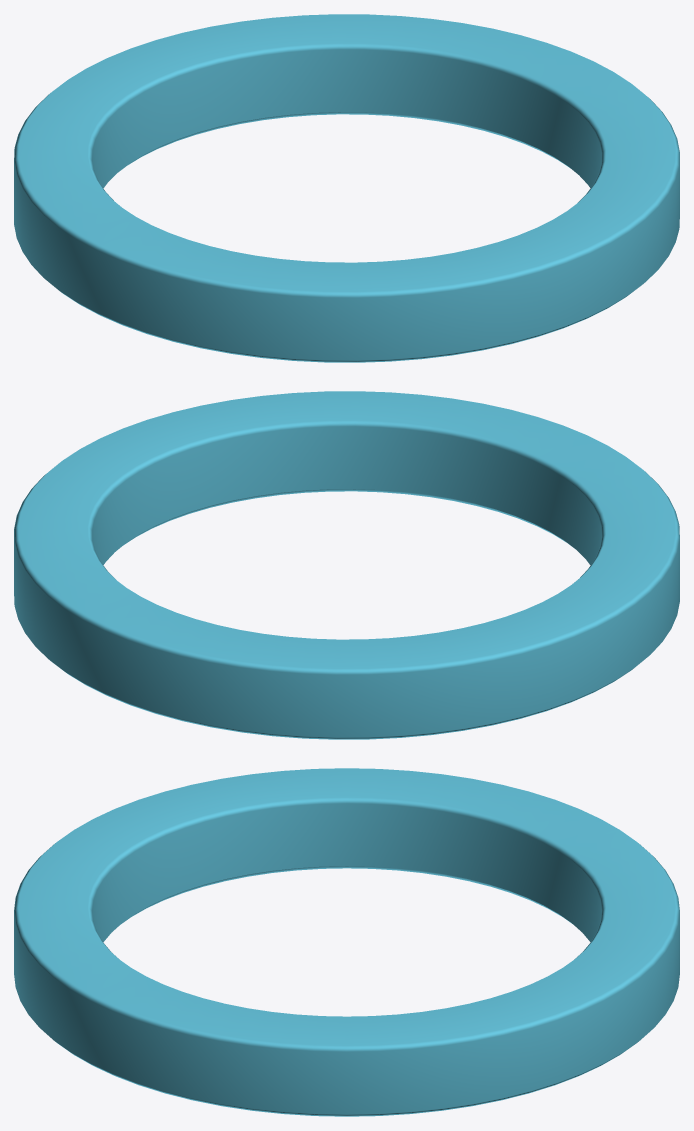
The picture shows the model from 3 angles, top to bottom: view 1: azimuth 30°, elevation 25°; view 2: azimuth 150°, elevation 25°; view 3: azimuth 270°, elevation 25°; orthographic projection.
Parts seen in each view (by area): view 1: seal_body; view 2: seal_body; view 3: seal_body.
Part boxes in pixels (x1,y1,x2,y2): seal_body: (14,14,679,362); seal_body: (14,391,679,739); seal_body: (14,768,679,1116).
Bounding box in the file's own units: 0.054 × 0.00635 × 0.054.
